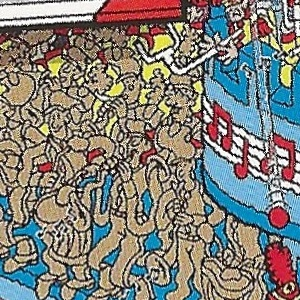Odlaw: (132, 97, 168, 203)
